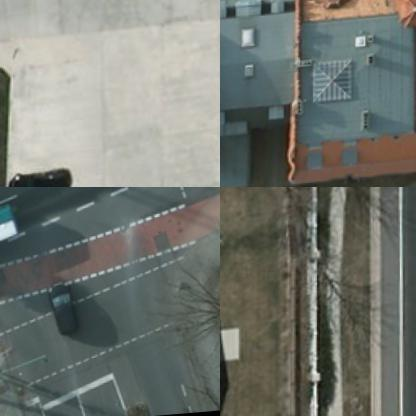car: (52, 283, 76, 335), (6, 169, 73, 186)
